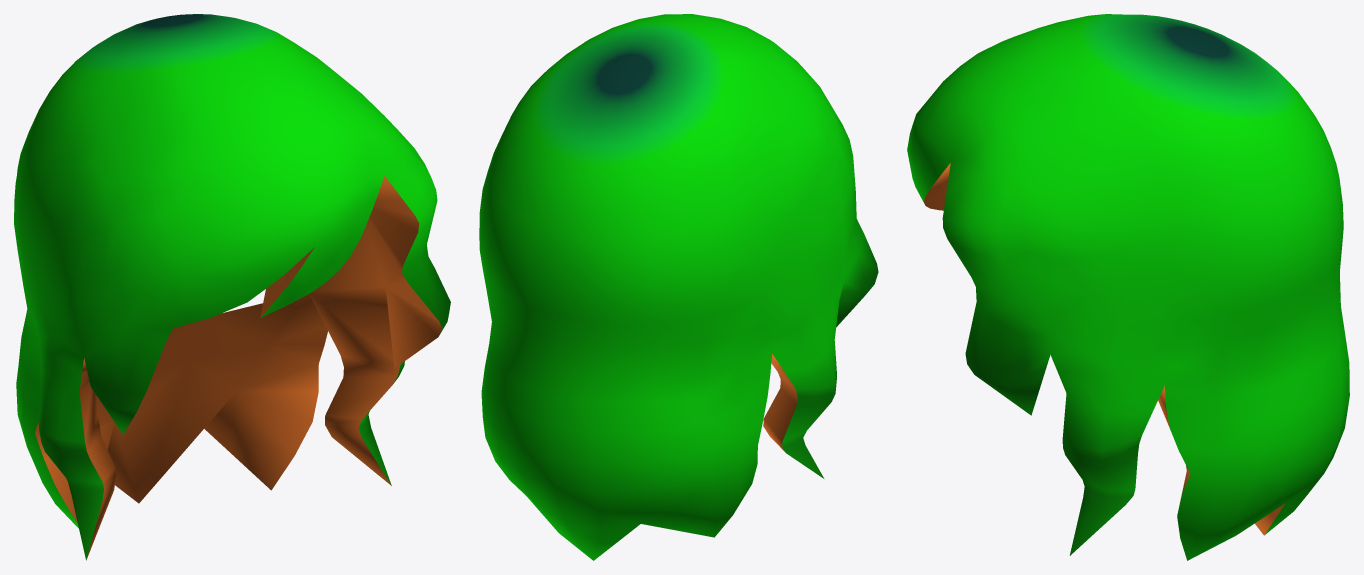
The model's file is Hair1_101.glb.
3 views of the same model, side by side, from view 1: azimuth 30°, elevation 25°; view 2: azimuth 150°, elevation 25°; view 3: azimuth 270°, elevation 25° (orthographic). The views are drawn at different scales.
Size of the model in its own units: 63.97 by 87.87 by 69.68.
